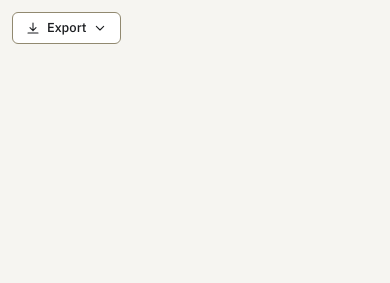
Test: the export menu › offers an aggregation its table alone: no files to list, no columns to choose
This screenshot has width=390, height=283.
Click the button "Export".
click(67, 28)  # box top-left (12, 12), bottom-right (121, 44)
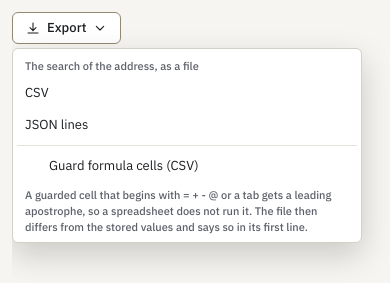
Now the menu item "CSV" is shown, box top-left (25, 84), bottom-right (48, 100)
